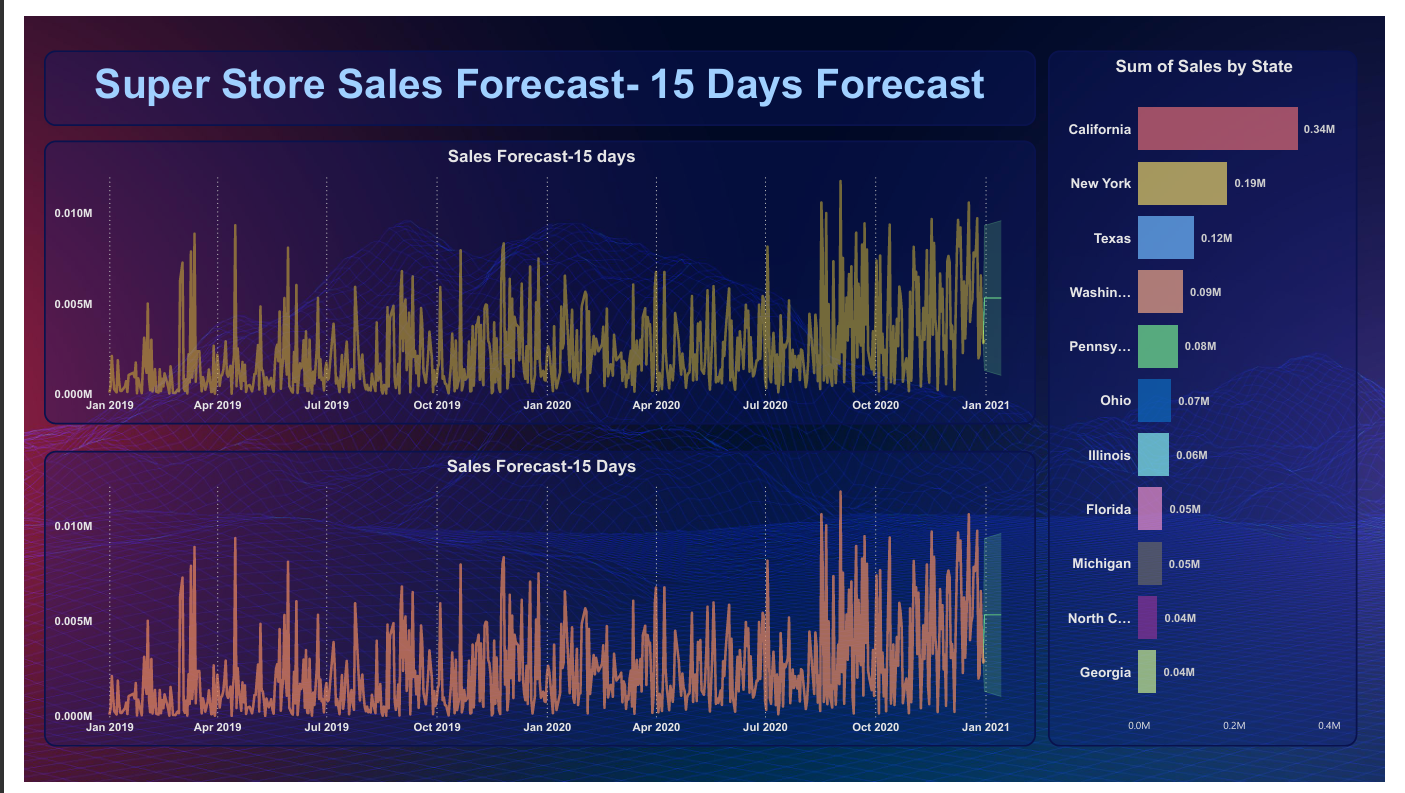

This screenshot's page, from the dashboard's own definition file:
{"tool":"powerbi","page":{"name":"Page 2","canvas":[1600,900],"ordinal":1},"visuals":[{"type":"lineChart","title":"Sales Forecast-15 Days","fields":{"Category":["SuperStore_Sales_Dataset.Order Date"],"Y":["Sum(SuperStore_Sales_Dataset.Sales)"]},"box":[23.4,510.5,1166.7,348.7],"z":0},{"type":"lineChart","title":"Sales Forecast-15 days","fields":{"Category":["SuperStore_Sales_Dataset.Order Date"],"Y":["Sum(SuperStore_Sales_Dataset.Sales)"]},"box":[23.4,145.6,1166.7,334.4],"z":1},{"type":"textbox","box":[23.4,39.5,1166.7,89.9],"z":2},{"type":"clusteredBarChart","fields":{"Category":["SuperStore_Sales_Dataset.State"],"Y":["Sum(SuperStore_Sales_Dataset.Sales)"]},"box":[1204.4,39.5,363.1,819.7],"z":3}]}

Visuals, with their boxes in screenshot pixels (x1, y1, x2, y2), scaled from the page's 1600x900 canvas onto the 1405x793 screenshot:
"Sales Forecast-15 Days" lineChart: rect(21, 450, 1045, 757)
"Sales Forecast-15 days" lineChart: rect(21, 128, 1045, 423)
textbox: rect(21, 35, 1045, 114)
clusteredBarChart - SuperStore_Sales_Dataset.State x Sum(SuperStore_Sales_Dataset.Sales): rect(1058, 35, 1376, 757)
